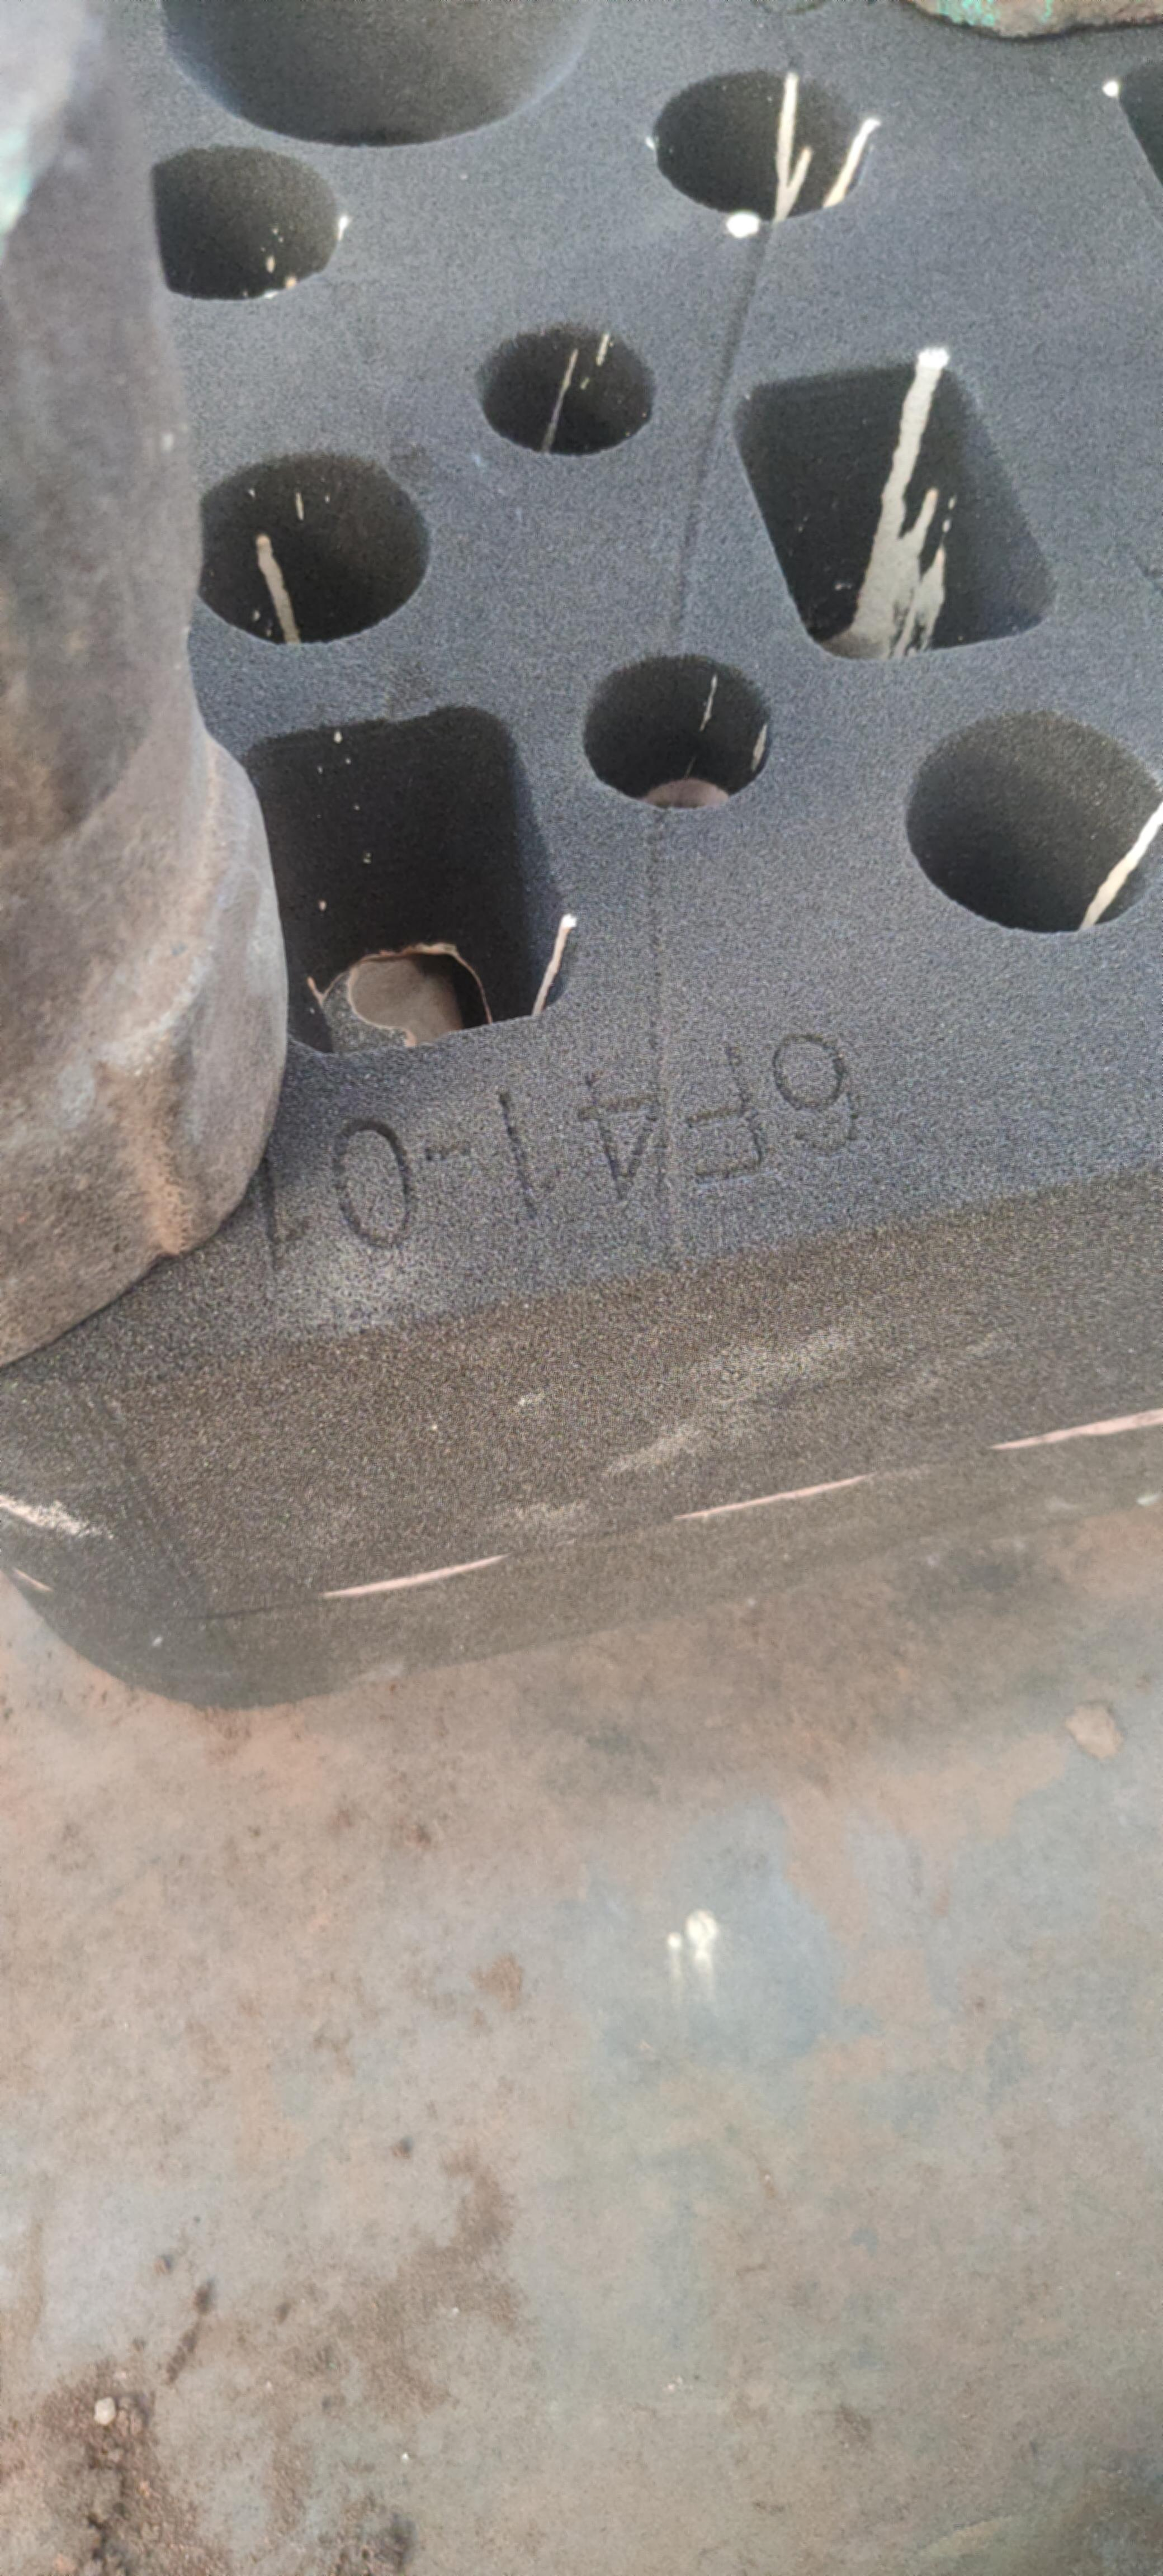pouring hole: (159, 0, 598, 153)
